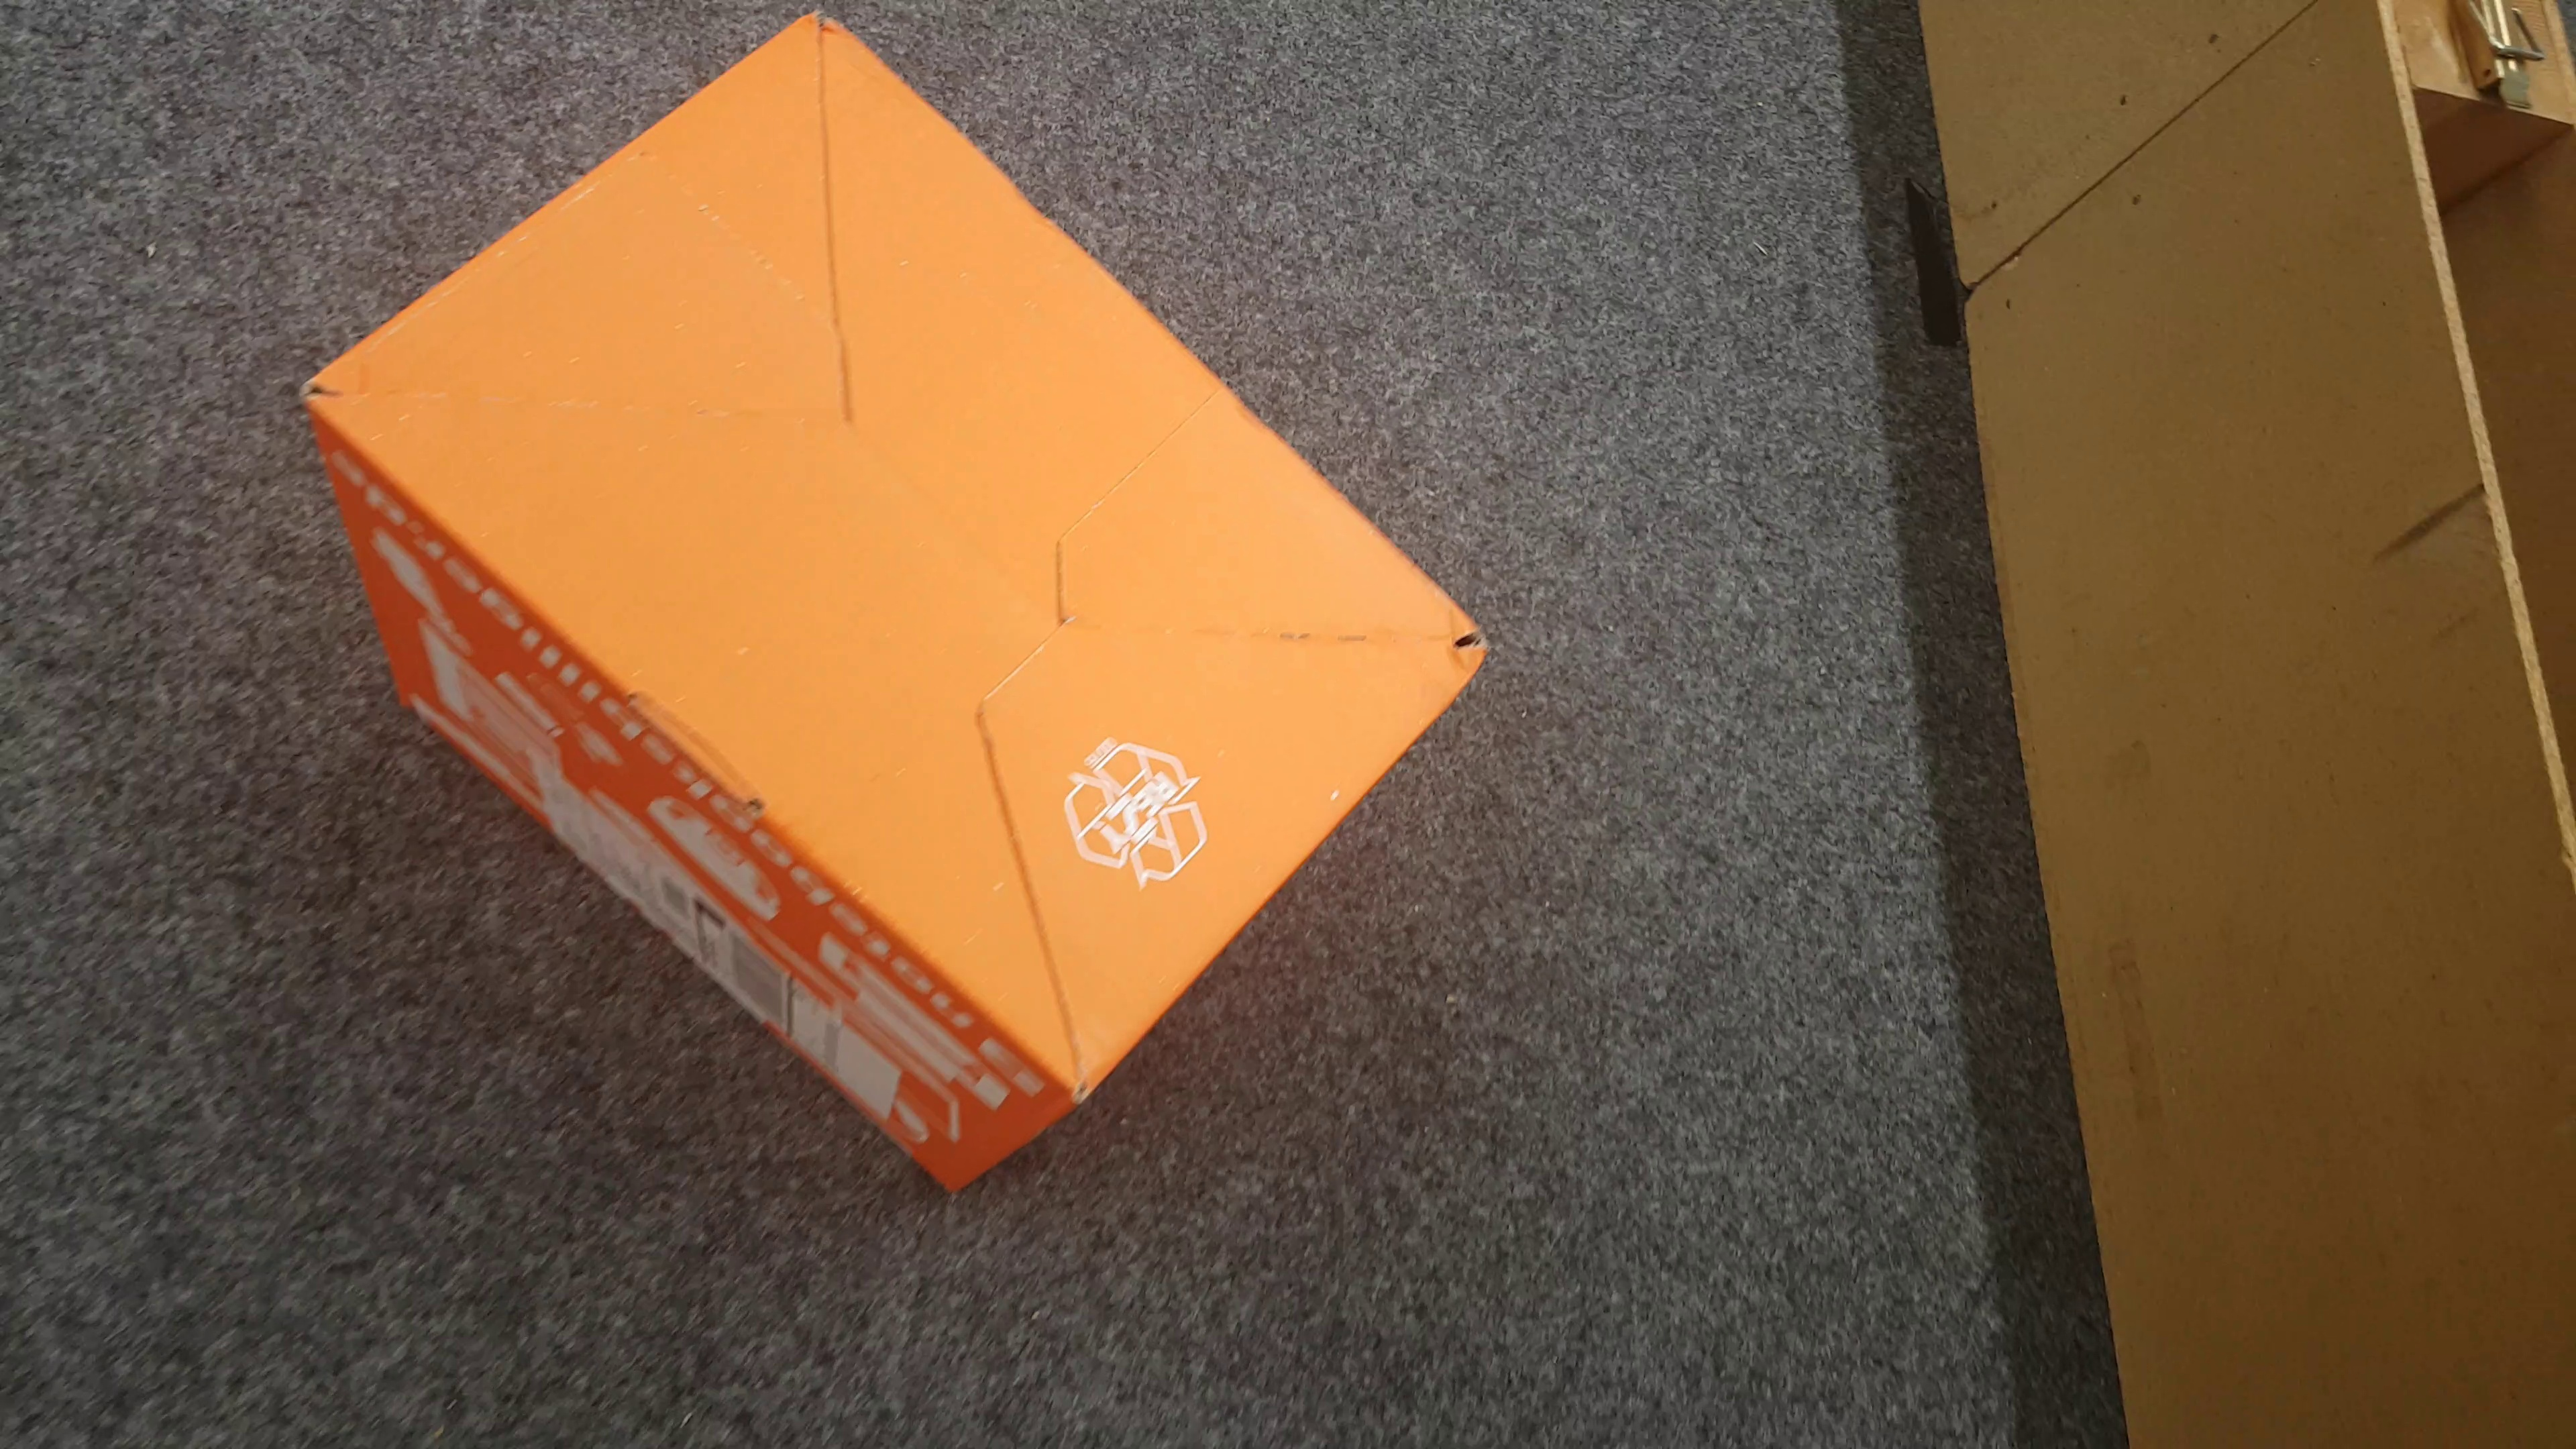push: (299, 12, 1486, 1205)
